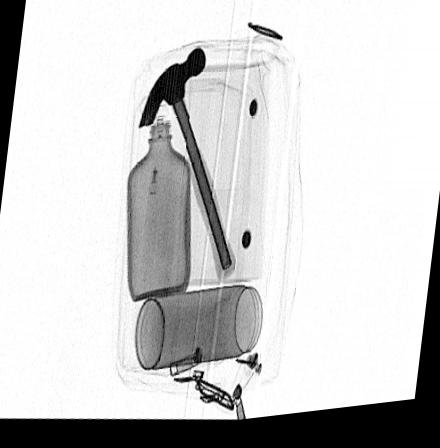Hammer: (138, 50, 236, 285)
